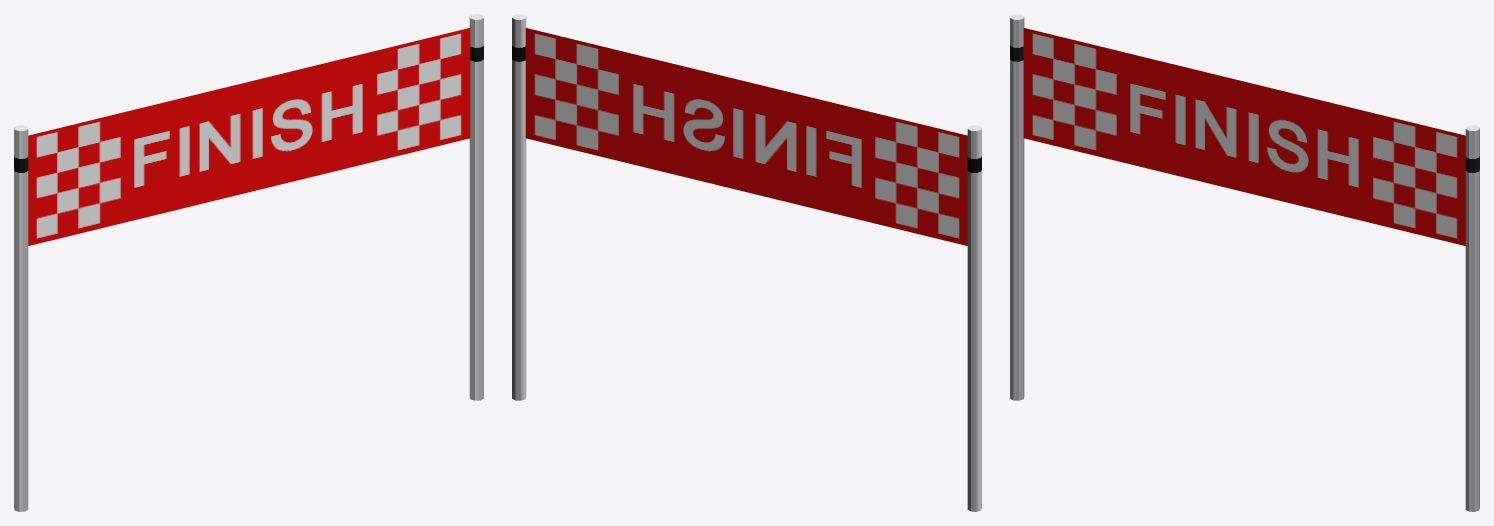
Rendered from finish.fbx.
3 views of the same model, side by side, from view 1: azimuth 30°, elevation 25°; view 2: azimuth 150°, elevation 25°; view 3: azimuth 330°, elevation 25° (orthographic).
Parts seen in each view (by area): view 1: pPlane2; view 2: pPlane2; view 3: pPlane2.
Part boxes in pixels (bbox=[...]): pPlane2: bbox=[14, 14, 483, 511]; pPlane2: bbox=[512, 14, 981, 511]; pPlane2: bbox=[1010, 14, 1479, 511].
Bounding box in the file's own units: 14.97 × 11.63 × 0.4093.
Materials: 1 (1 with a texture image).
